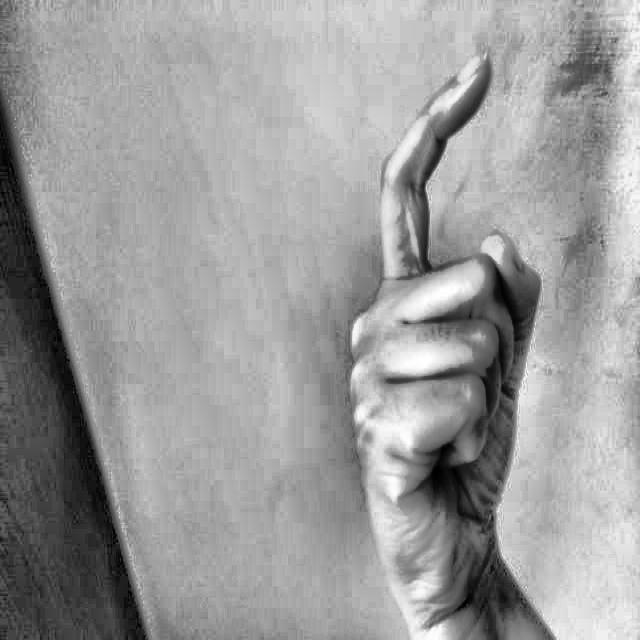E: (318, 31, 539, 599)
